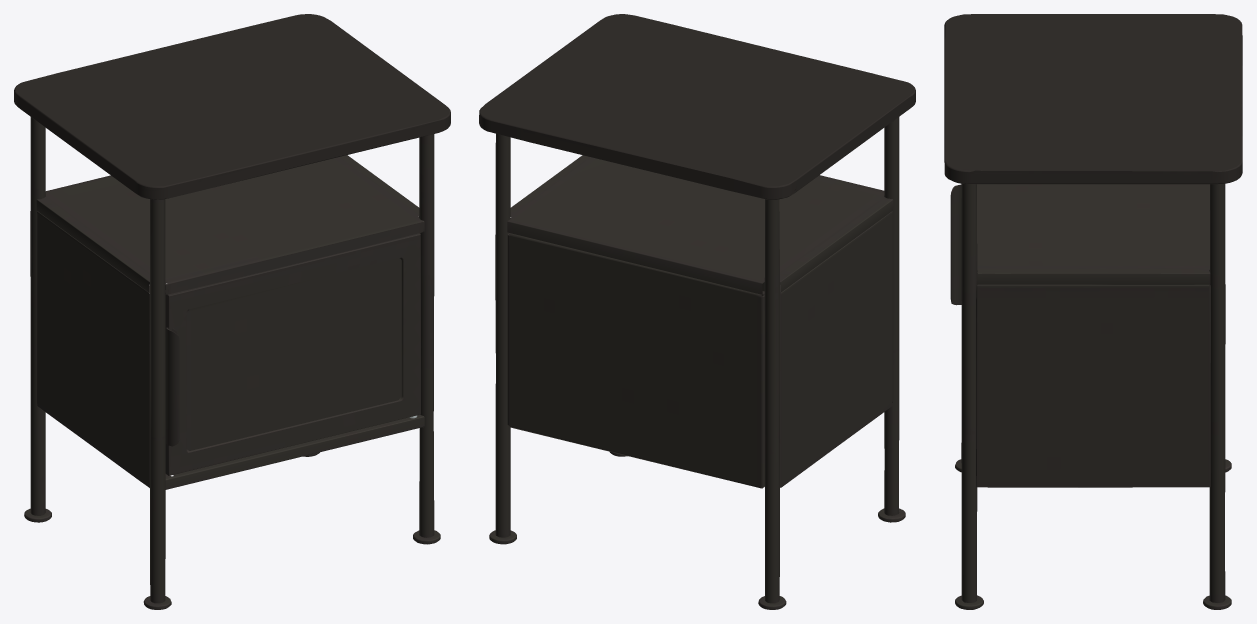
File: grafjaellet_nightstand_anthracite.glb
3 views of the same model, side by side, from view 1: azimuth 30°, elevation 25°; view 2: azimuth 150°, elevation 25°; view 3: azimuth 270°, elevation 25° (orthographic). The views are drawn at different scales.
Parts seen in each view (by area): view 1: ASY_ART_20570221_S01_NV01; view 2: ASY_ART_20570221_S01_NV01; view 3: ASY_ART_20570221_S01_NV01.
Boxes of the visible parts, box(x1,y1,x2,y2) form: ASY_ART_20570221_S01_NV01: box(14, 14, 450, 609); ASY_ART_20570221_S01_NV01: box(479, 14, 915, 609); ASY_ART_20570221_S01_NV01: box(944, 14, 1242, 609).
Size of the model in its own units: 0.4505 by 0.5926 by 0.3604.
Materials: 1 (1 with a texture image).
